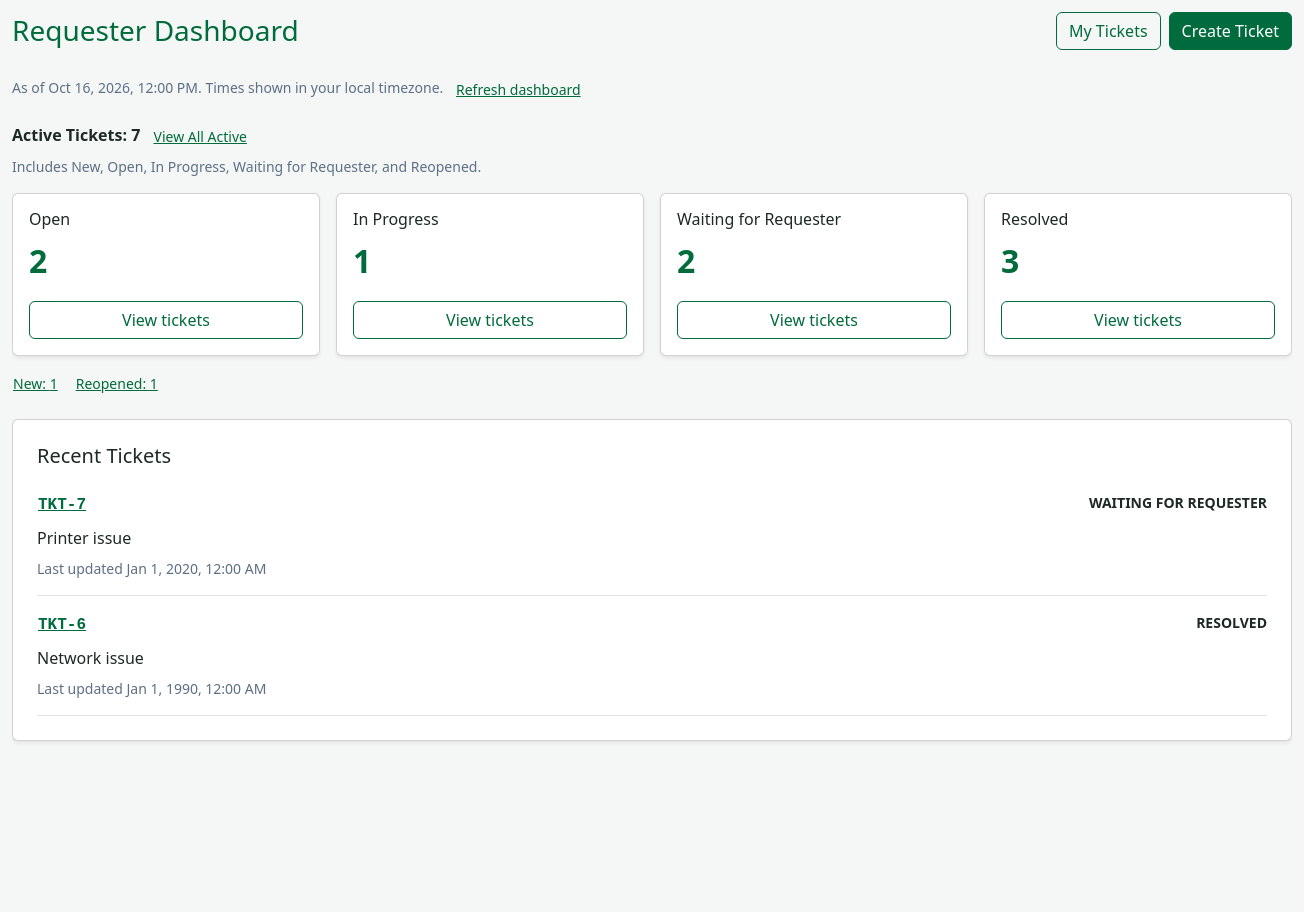
REQ-UI-01 Requester Dashboard › does not show stale counts as success after refresh fails
expect the button with aria-label "View All Active (7)" is shown: met, box [144,121,256,152]
Click the button "Refresh dashboard". click: (518, 90)
box: [447,74,590,105]
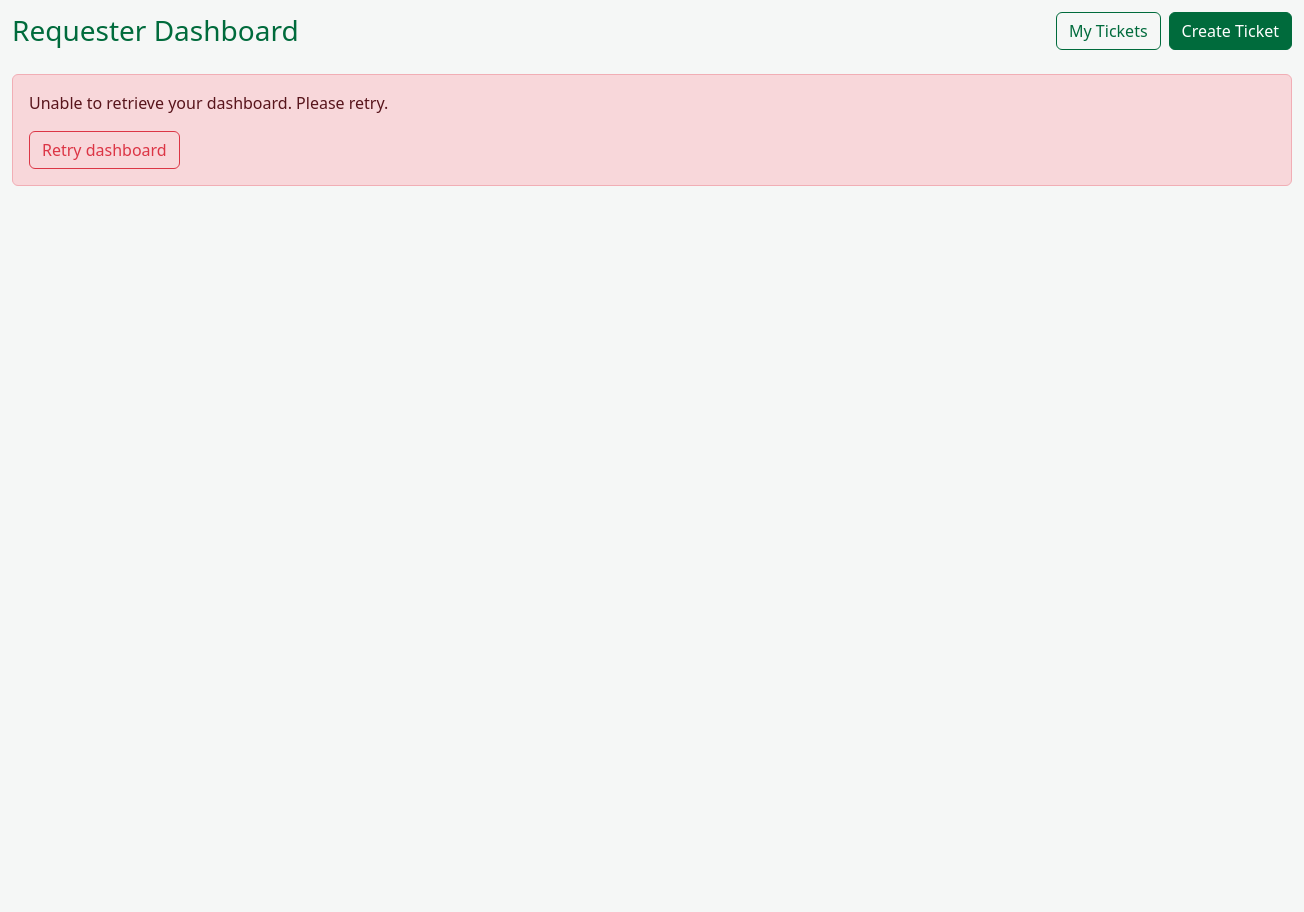
expect the message shows "Unable to retrieve your dashboard": met, box [29,92,388,114]
